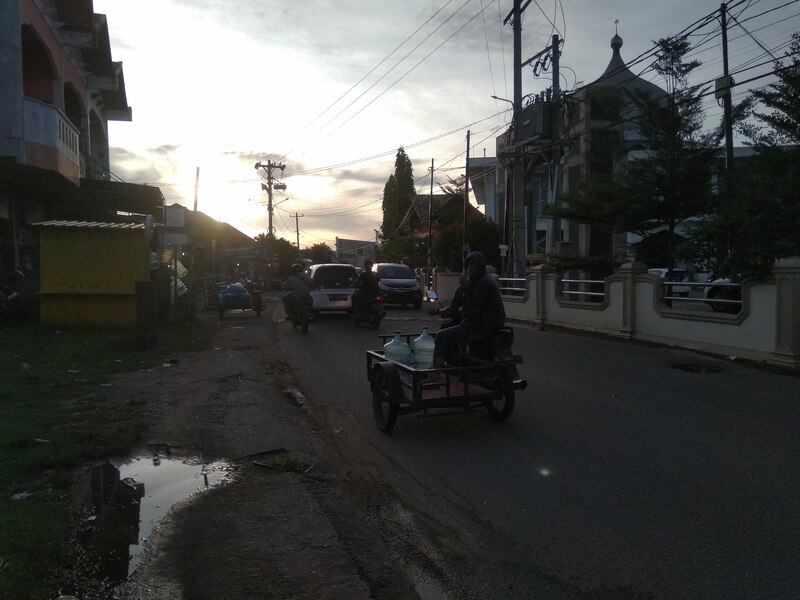becak barang: (364, 291, 534, 437)
car: (298, 260, 369, 324), (369, 259, 427, 317)
motorcycle: (282, 285, 319, 339), (351, 285, 391, 334)
